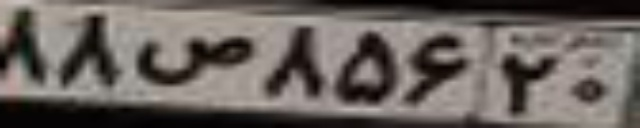0: (570, 78, 607, 103)
2: (496, 51, 557, 113)
5: (331, 30, 395, 103)
6: (403, 34, 466, 104)
8: (58, 11, 121, 88), (266, 25, 323, 97), (0, 7, 48, 84)
saat: (135, 35, 253, 85)
